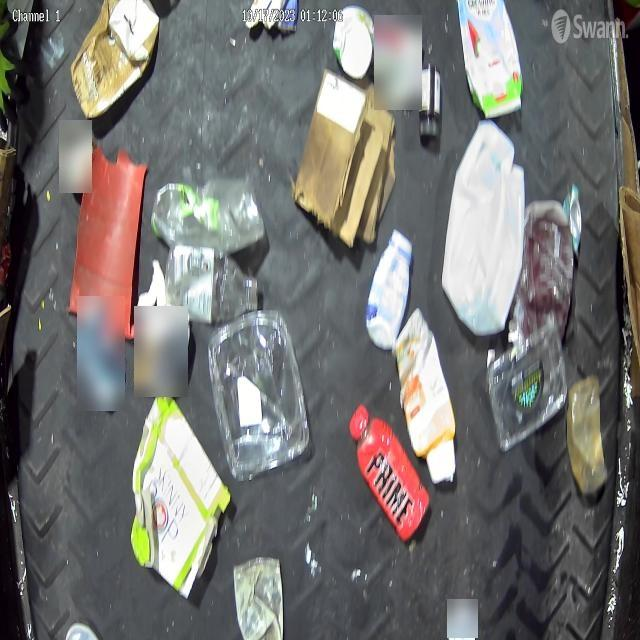milk_jug: (444, 124, 524, 334)
non_white_jug: (456, 0, 524, 117)
plastic_bottle: (164, 244, 259, 326)
